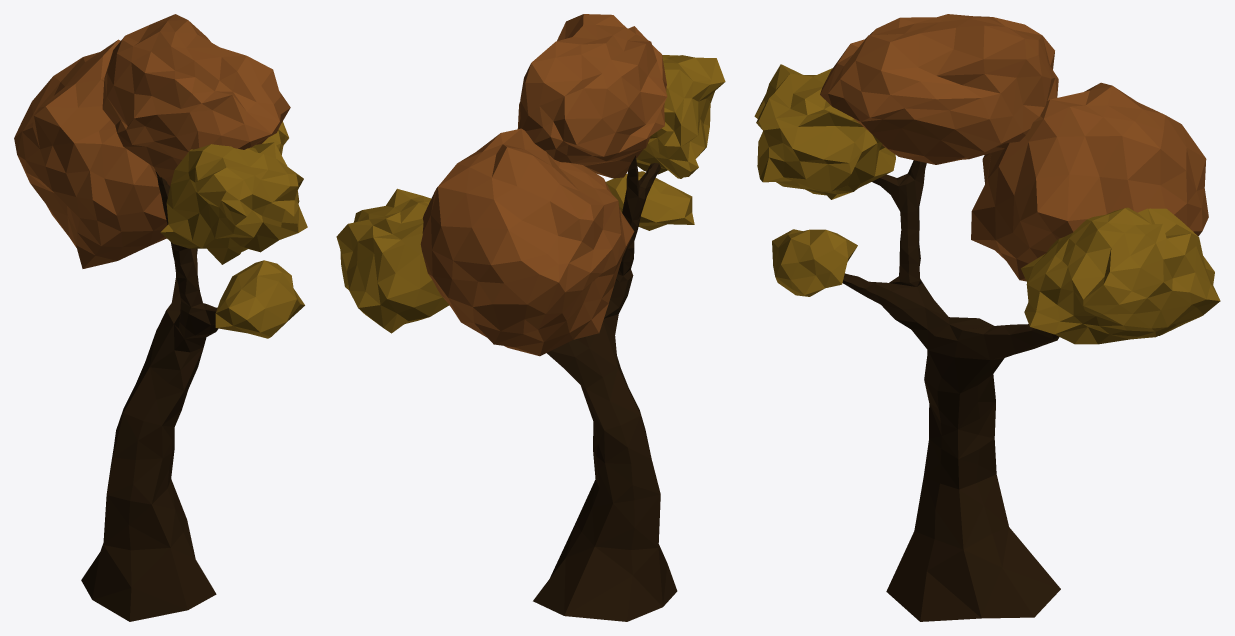
Rendered from common_tree_2_autumn.glb.
3 renders of one model, left to right at view 1: azimuth 30°, elevation 25°; view 2: azimuth 150°, elevation 25°; view 3: azimuth 270°, elevation 25°, orthographic. The views are drawn at different scales.
Visible parts, largest first — view 1: common_tree_2_leaves_dark.001, common_tree_2_trunk.001, common_tree_2_leaves.001; view 2: common_tree_2_leaves_dark.001, common_tree_2_trunk.001, common_tree_2_leaves.001; view 3: common_tree_2_leaves_dark.001, common_tree_2_leaves.001, common_tree_2_trunk.001.
Part boxes in pixels (x1=…): common_tree_2_leaves_dark.001: x1=14, y1=14, x2=290, y2=268; common_tree_2_trunk.001: x1=81, y1=170, x2=218, y2=621; common_tree_2_leaves.001: x1=160, y1=121, x2=307, y2=338; common_tree_2_leaves_dark.001: x1=420, y1=14, x2=667, y2=356; common_tree_2_trunk.001: x1=533, y1=155, x2=677, y2=621; common_tree_2_leaves.001: x1=336, y1=55, x2=725, y2=333; common_tree_2_leaves_dark.001: x1=820, y1=14, x2=1208, y2=281; common_tree_2_leaves.001: x1=754, y1=64, x2=1220, y2=344; common_tree_2_trunk.001: x1=842, y1=160, x2=1060, y2=621.
Size of the model in its own units: 2.5 by 5.33 by 3.74.
